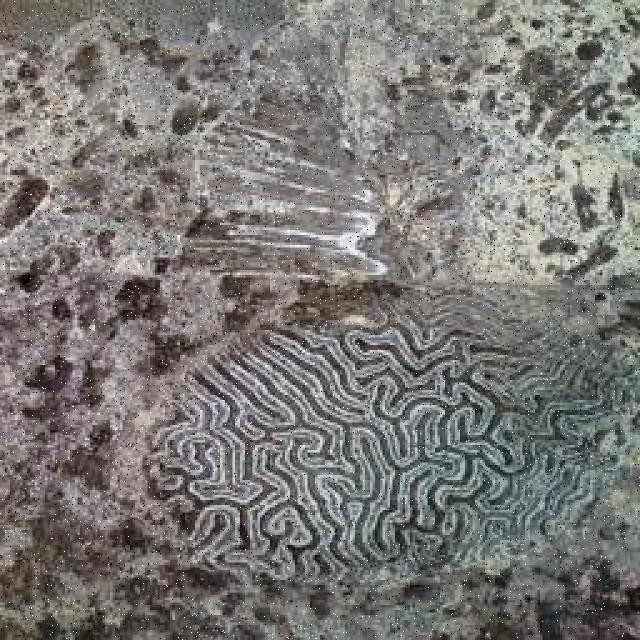reefs: (142, 287, 638, 587)
